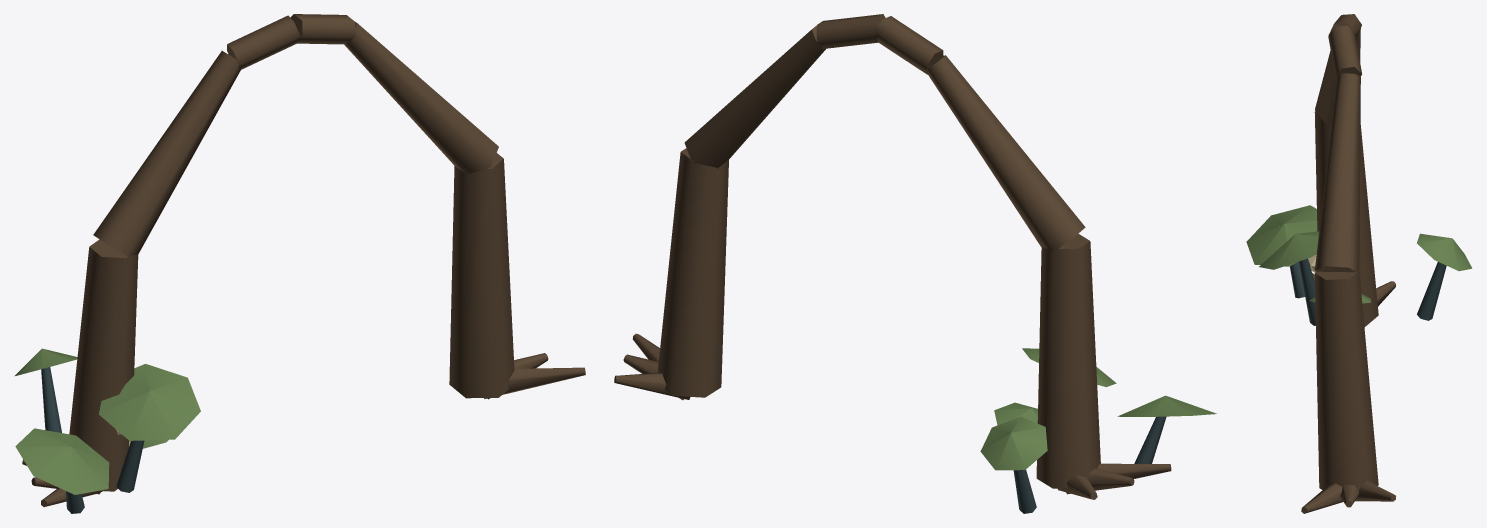
Rendered from root-opening.glb.
The picture shows the model from 3 angles, left to right: view 1: azimuth 30°, elevation 25°; view 2: azimuth 150°, elevation 25°; view 3: azimuth 270°, elevation 25°; orthographic projection. The views are drawn at different scales.
Visible parts, largest first — view 1: root-opening; view 2: root-opening; view 3: root-opening.
Part boxes in pixels (x1,y1,x2,y2): root-opening: (14,14,585,513); root-opening: (614,14,1216,513); root-opening: (1246,14,1472,513).
Size of the model in its own units: 4.02 by 2.9 by 1.52.
